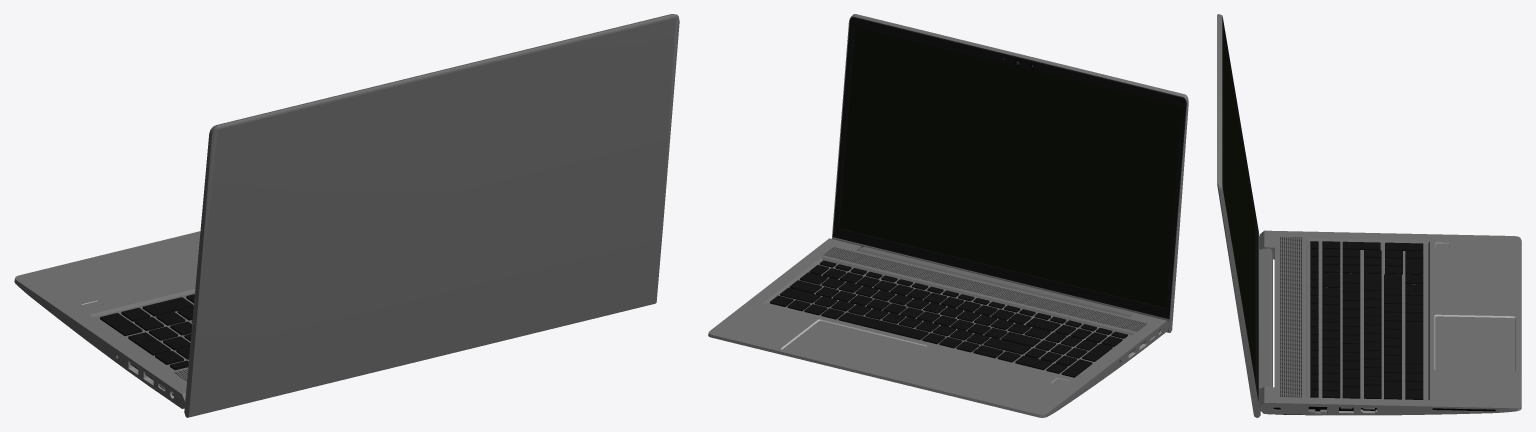
Rendered from laptop.glb.
The picture shows the model from 3 angles, left to right: view 1: azimuth 30°, elevation 25°; view 2: azimuth 150°, elevation 25°; view 3: azimuth 270°, elevation 25°; orthographic projection. The views are drawn at different scales.
Parts seen in each view (by area): view 1: lid_3, body_0; view 2: lid_3, body_0; view 3: body_0, lid_3.
Part boxes in pixels (x1,y1,x2,y2): lid_3: (184,14,679,417); body_0: (14,231,200,408); lid_3: (831,14,1188,332); body_0: (708,238,1169,417); body_0: (1259,230,1521,415); lid_3: (1217,14,1272,417).
Size of the model in its own units: 0.9185 by 0.5895 by 0.6863.
Materials: 14 (1 with a texture image).
